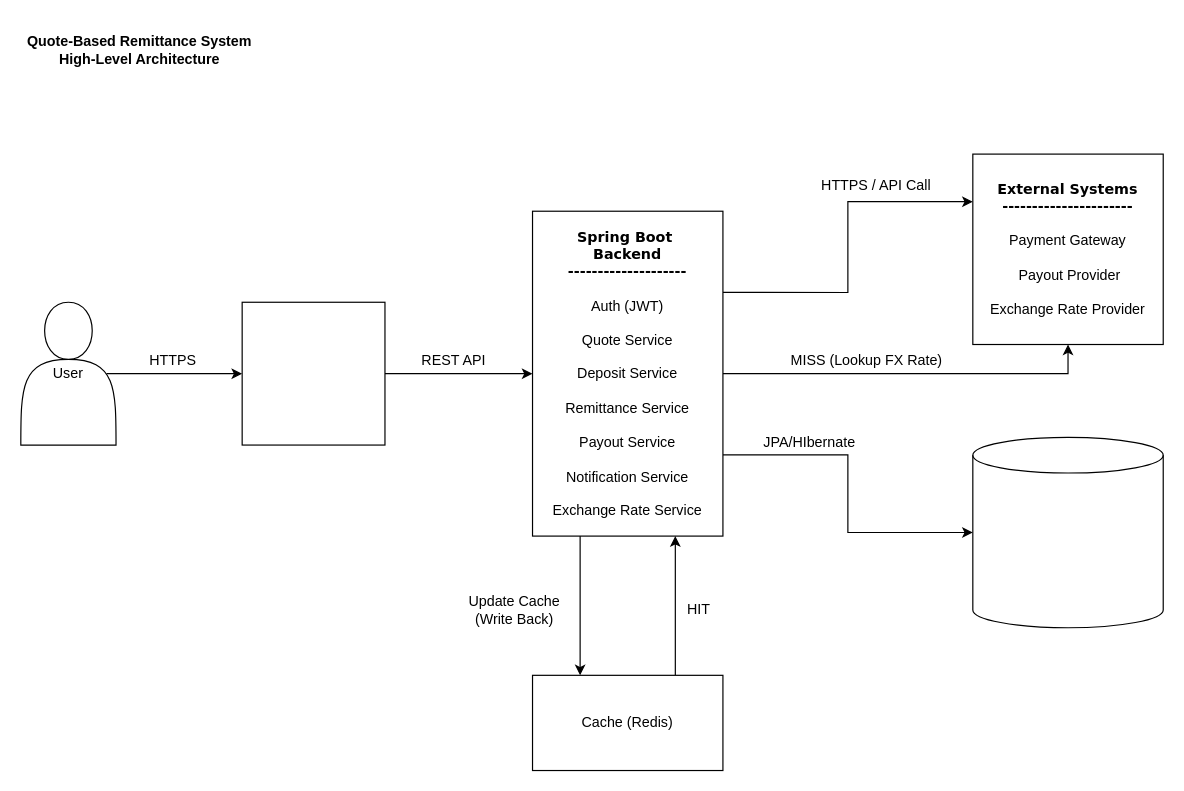
The diagram is 1184 pixels wide and 791 high, and some of its shapes have lost their labels. The box of each missing label's shape, as (x1, y1, x2, y2) in pixels:
Database: (972, 436, 1163, 628)
Frontend: (241, 301, 385, 445)
